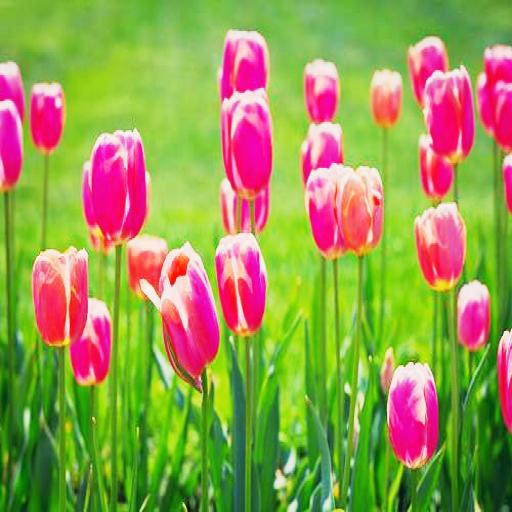tulip: (159, 242, 219, 392), (83, 127, 148, 246), (388, 359, 441, 468), (220, 90, 274, 196), (33, 246, 89, 344), (215, 233, 268, 334), (425, 65, 475, 158), (413, 204, 467, 287), (338, 165, 384, 251), (305, 60, 340, 122), (458, 280, 489, 348), (32, 83, 64, 147)
